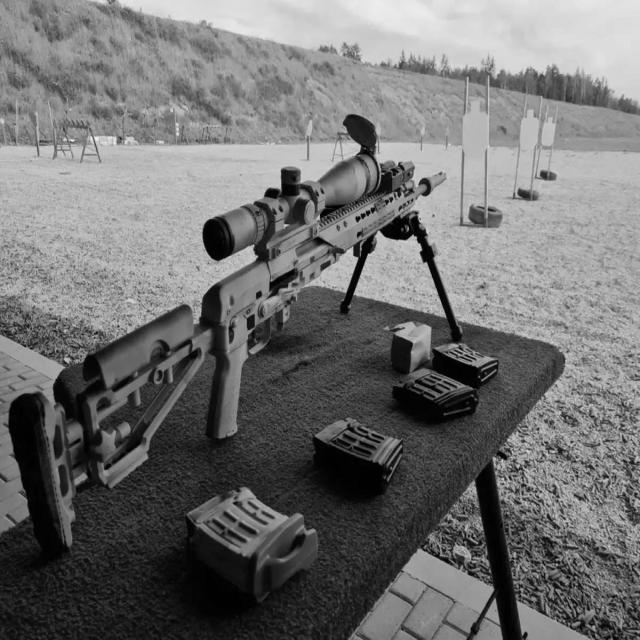Sniper: (5, 86, 482, 615)
